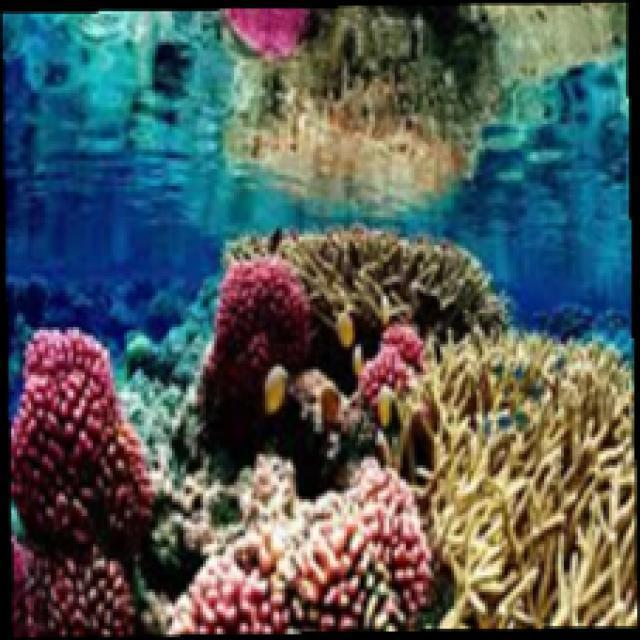Dead Coral: (301, 208, 483, 335)
